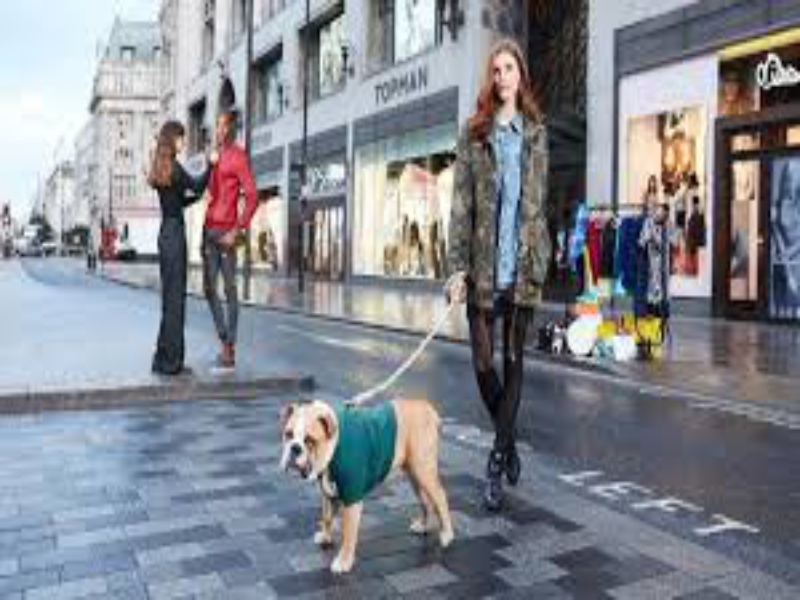TsisyArotava: (475, 38, 541, 116)
